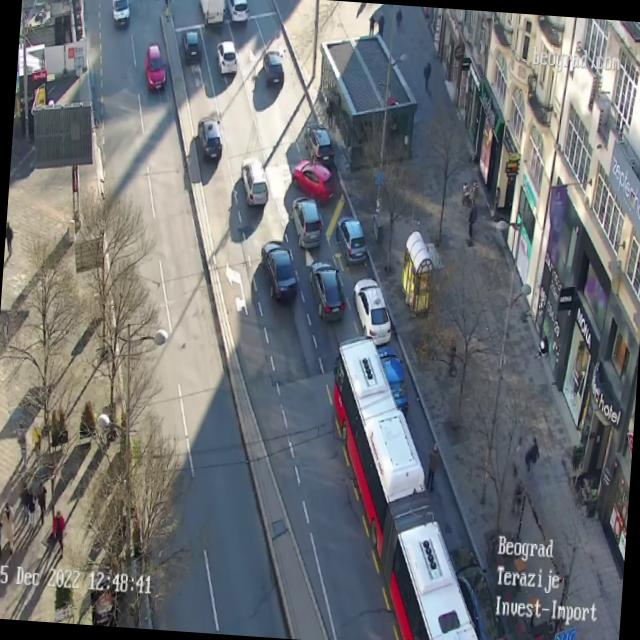bus: (314, 331, 504, 640)
car: (350, 276, 395, 341), (260, 240, 304, 304), (374, 340, 409, 410), (307, 260, 347, 318), (292, 156, 335, 203), (334, 212, 368, 264), (290, 200, 324, 249), (238, 156, 270, 208), (302, 122, 336, 168), (142, 44, 168, 92), (196, 117, 223, 160), (214, 39, 238, 76), (261, 48, 284, 84), (198, 0, 225, 27), (181, 29, 202, 62), (109, 0, 131, 26), (223, 0, 249, 22)
